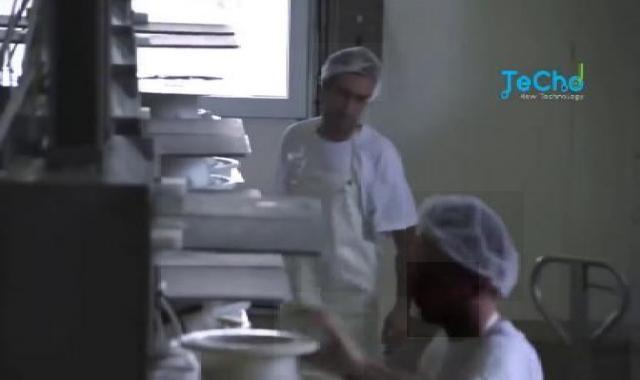gloves: (406, 191, 524, 302), (313, 43, 388, 101)
no_apron: (274, 292, 364, 375), (379, 296, 414, 351)
no_hairnet: (407, 263, 479, 338), (320, 94, 371, 139)
